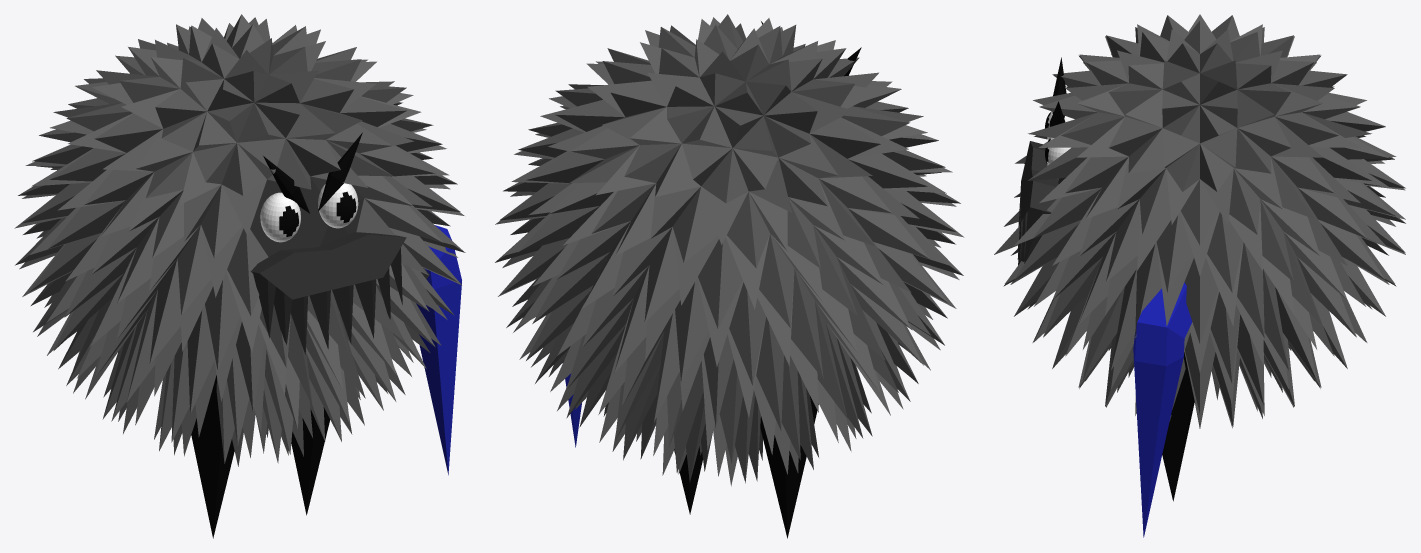
Rendered from Old Prick 1.fbx.
The picture shows the model from 3 angles, left to right: view 1: azimuth 30°, elevation 25°; view 2: azimuth 150°, elevation 25°; view 3: azimuth 270°, elevation 25°; orthographic projection. The views are drawn at different scales.
Visible parts, largest first — view 1: OP_Model, Cone.004; view 2: OP_Model; view 3: OP_Model, Cone.004.
Part boxes in pixels (x1,y1,x2,y2): OP_Model: [14, 14, 465, 538]; Cone.004: [416, 225, 461, 475]; OP_Model: [495, 14, 964, 538]; OP_Model: [994, 14, 1405, 501]; Cone.004: [1133, 282, 1192, 537].
Bounding box in the file's own units: 499 × 591 × 497.
